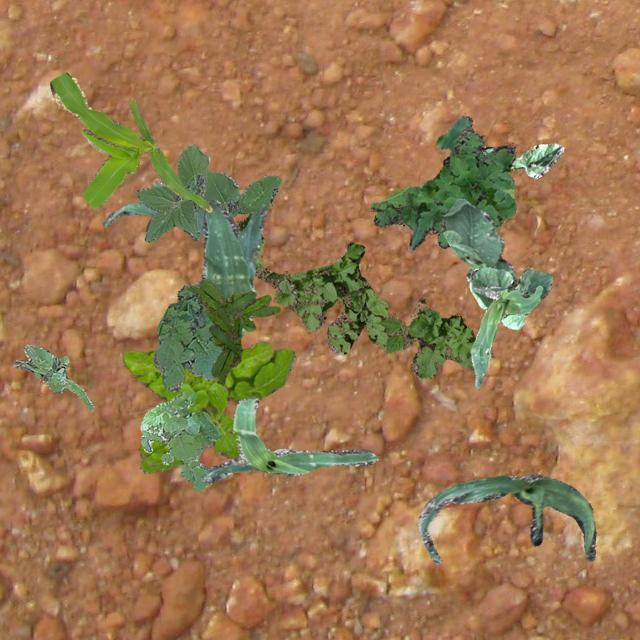crop: (48, 72, 210, 210), (416, 474, 594, 564), (202, 394, 378, 482), (200, 200, 266, 334), (469, 284, 542, 386), (440, 198, 514, 282), (468, 266, 552, 328), (480, 142, 562, 178), (102, 180, 164, 226)
weed: (238, 212, 474, 378), (123, 340, 294, 472), (370, 115, 514, 248), (134, 144, 280, 242), (140, 390, 218, 490), (152, 282, 222, 391), (12, 344, 94, 408), (186, 278, 278, 330), (206, 300, 242, 384)
